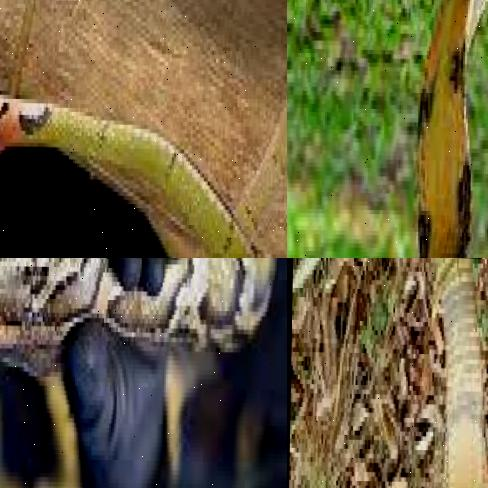snake: (0, 0, 287, 258), (0, 258, 287, 488), (385, 0, 488, 258), (424, 258, 488, 488)
